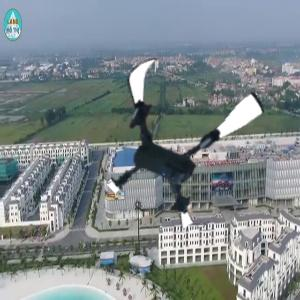drone: (96, 53, 268, 225)
